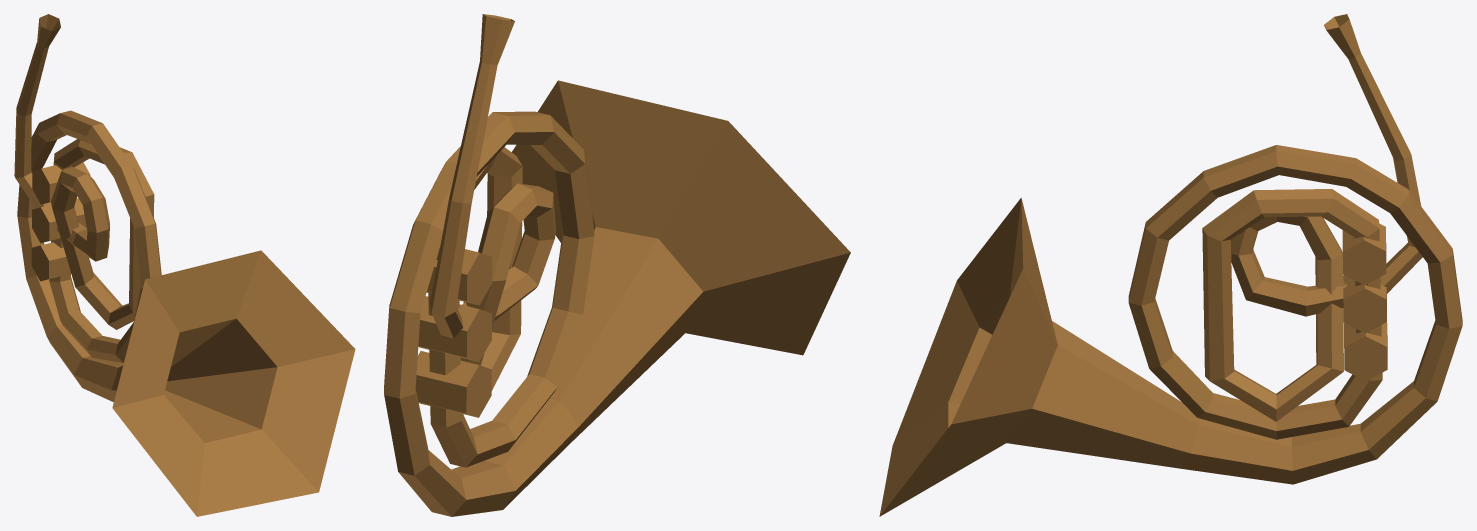
The model's file is horn-french.fbx.
The picture shows the model from 3 angles, left to right: view 1: azimuth 30°, elevation 25°; view 2: azimuth 150°, elevation 25°; view 3: azimuth 270°, elevation 25°; orthographic projection. The views are drawn at different scales.
Visible parts, largest first — view 1: horn-french; view 2: horn-french; view 3: horn-french.
Boxes of the visible parts, x1,y1,x2,y2 form: horn-french: (14,14,355,516); horn-french: (384,14,850,516); horn-french: (879,14,1462,516).
Size of the model in its own units: 0.3488 by 0.4983 by 0.5877.
